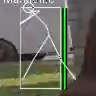hacks_1: (1, 1, 76, 89)
